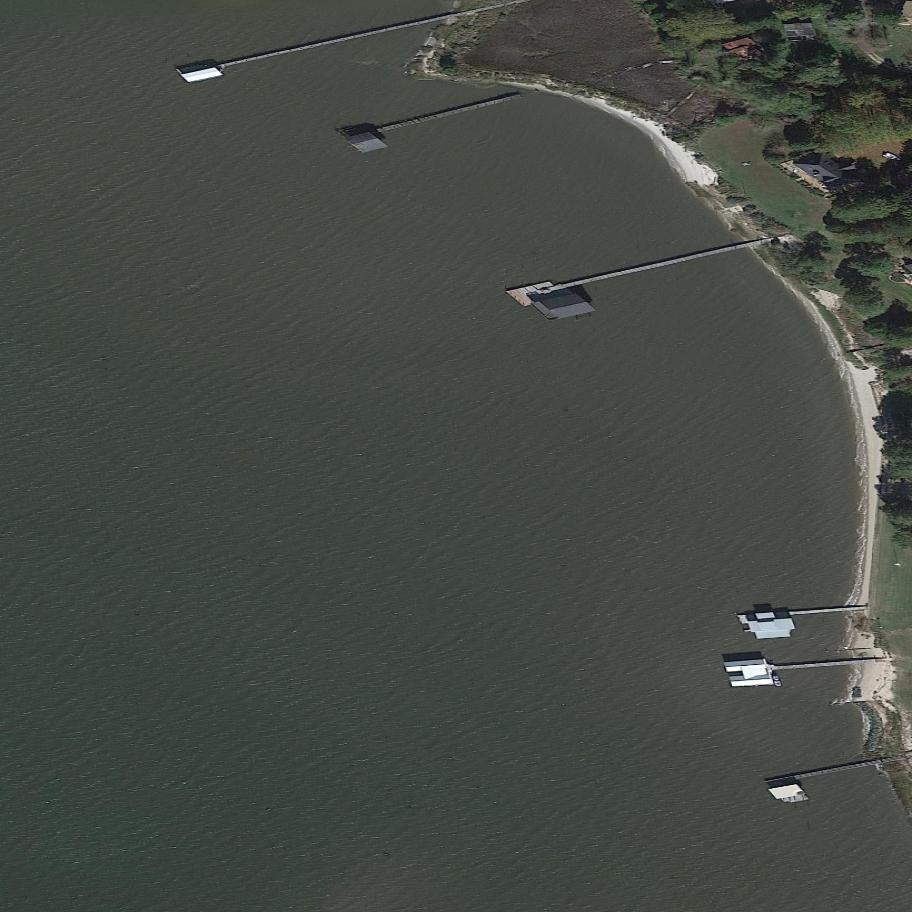ship: (876, 146, 909, 166)
